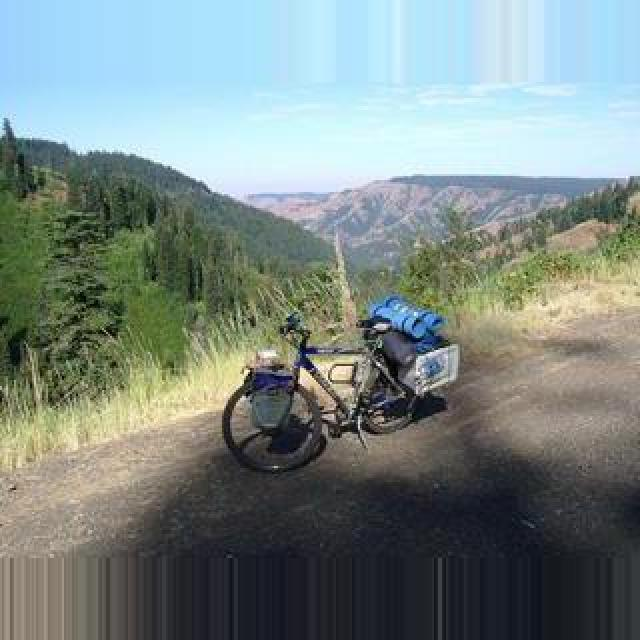Person: (222, 312, 450, 476)
